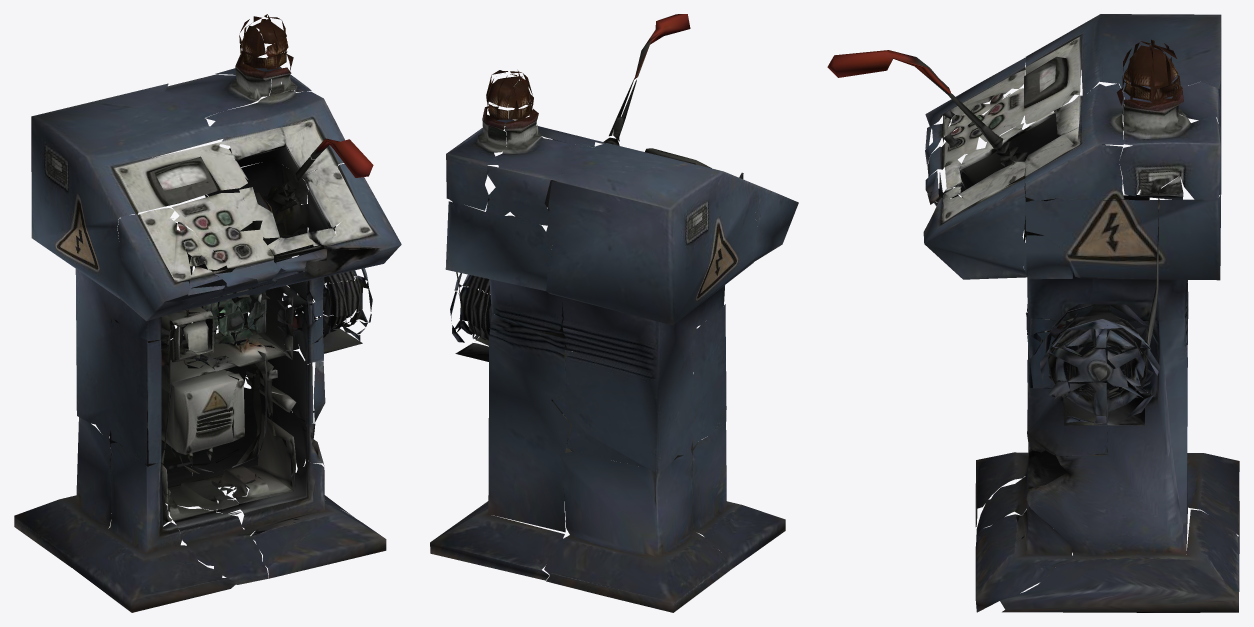
File: console.glb
3 renders of one model, left to right at view 1: azimuth 30°, elevation 25°; view 2: azimuth 150°, elevation 25°; view 3: azimuth 270°, elevation 25°, orthographic. The views are drawn at different scales.
Visible parts, largest first — view 1: Mesh; view 2: Mesh; view 3: Mesh.
Boxes of the visible parts, x1,y1,x2,y2 form: Mesh: (14, 14, 401, 612); Mesh: (430, 14, 798, 612); Mesh: (827, 14, 1239, 612).
Size of the model in its own units: 0.9403 by 1.6 by 1.1.
Materials: 1 (1 with a texture image).
